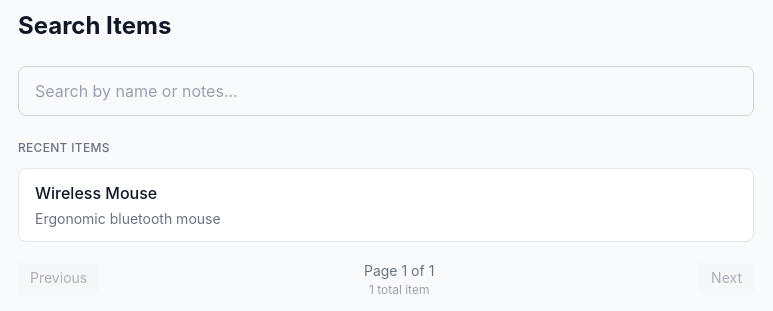
Scenario: SearchPage › shows error message on search failure
Type "fail" into the field with placeholder "Search by name or notes...". click: (386, 91)
box: [18, 66, 754, 116]
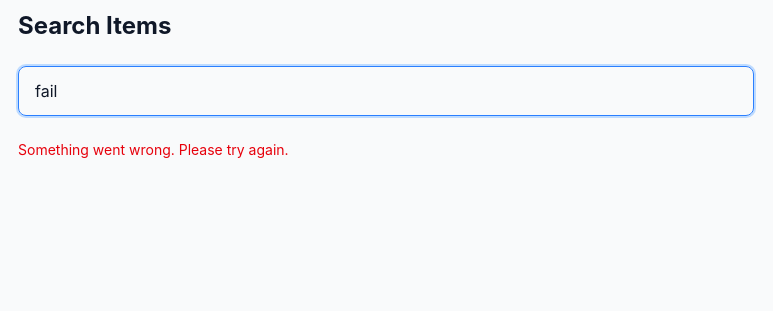
Check: the text "Something went wrong. Please try again." is shown, box [18, 141, 289, 158]
